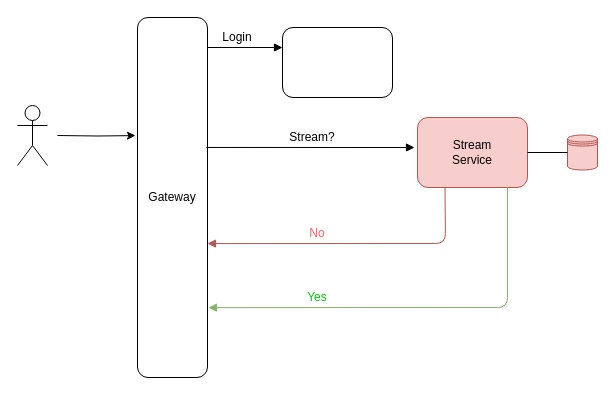
The diagram is 615 pixels wide and 395 high, and some of its shapes have lost their labels. Here are the shapes that lost their labels. From the top down, the centre of each, then its label:
At point (337, 62): "Authentication Service".
At point (32, 135): "User".
